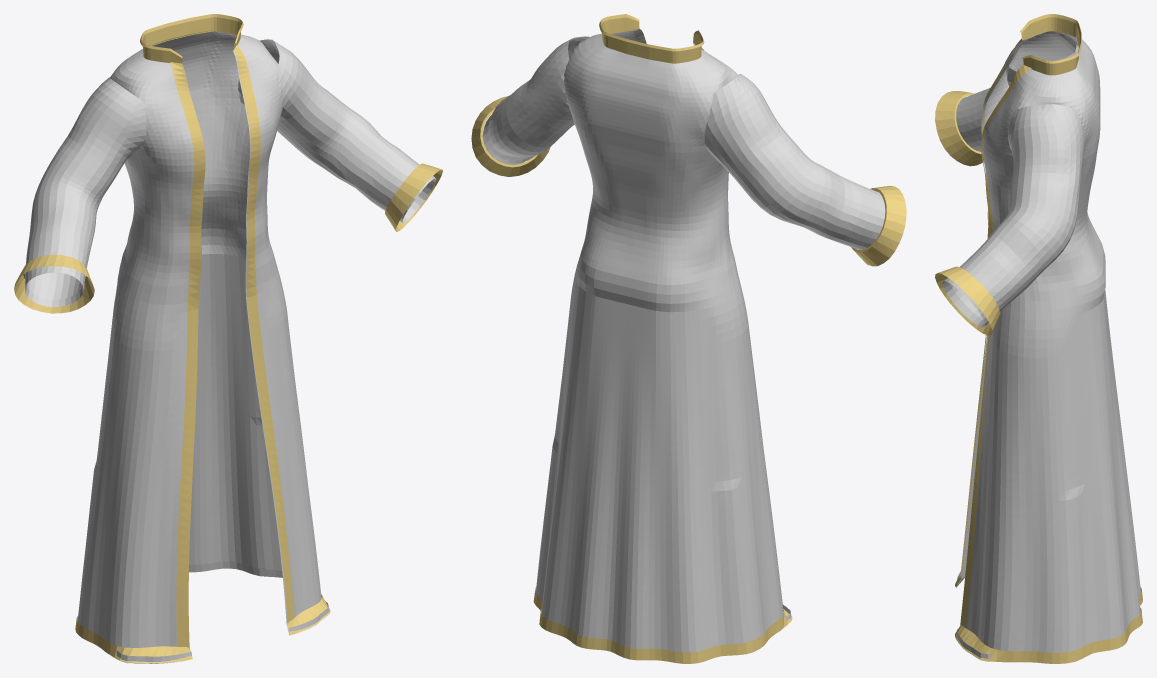
The model's file is ewb_anunnaki_open.glb.
The picture shows the model from 3 angles, left to right: view 1: azimuth 30°, elevation 25°; view 2: azimuth 150°, elevation 25°; view 3: azimuth 270°, elevation 25°; orthographic projection. The views are drawn at different scales.
Visible parts, largest first — view 1: ewb_anunnaki_open; view 2: ewb_anunnaki_open; view 3: ewb_anunnaki_open.
Part boxes in pixels (<box>): ewb_anunnaki_open: <box>14,14,442,663</box>; ewb_anunnaki_open: <box>471,14,906,663</box>; ewb_anunnaki_open: <box>935,14,1142,663</box>.
Bounding box in the file's own units: 1.23 × 1.6 × 0.5261.
